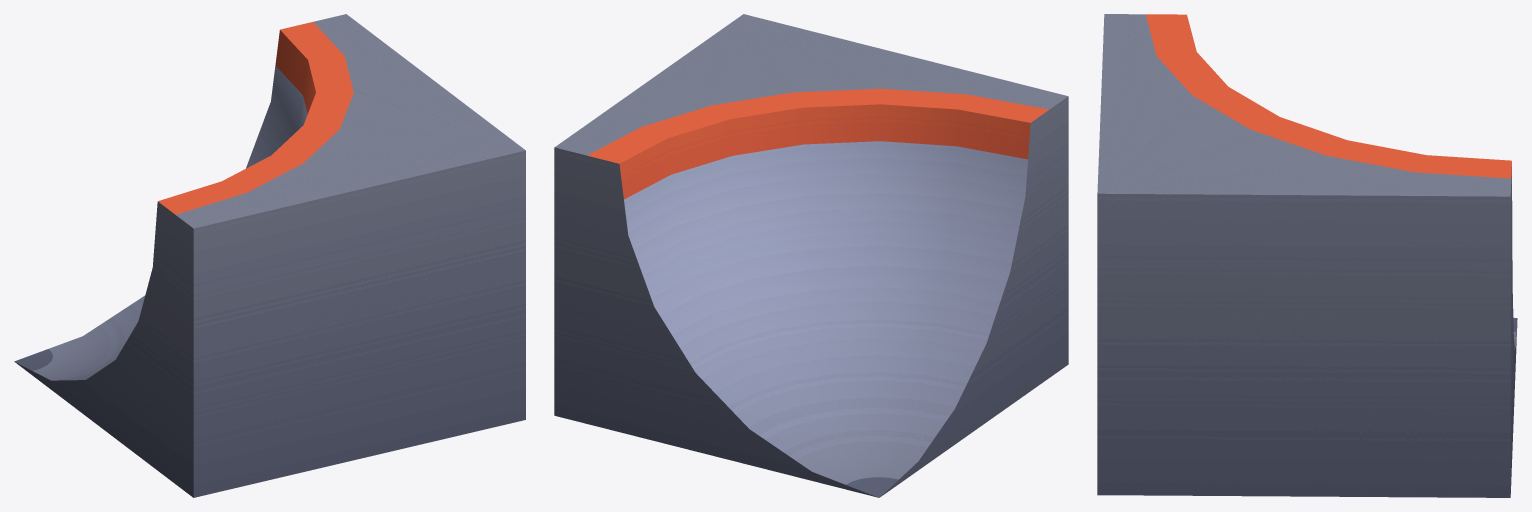
File: bowl-corner-inner.001_lev2.glb
3 views of the same model, side by side, from view 1: azimuth 30°, elevation 25°; view 2: azimuth 150°, elevation 25°; view 3: azimuth 270°, elevation 25° (orthographic). The views are drawn at different scales.
Visible parts, largest first — view 1: bowl-corner-inner.001_lev2; view 2: bowl-corner-inner.001_lev2; view 3: bowl-corner-inner.001_lev2.
Boxes of the visible parts, bbox=[...] form: bowl-corner-inner.001_lev2: bbox=[14, 14, 525, 497]; bowl-corner-inner.001_lev2: bbox=[554, 14, 1068, 497]; bowl-corner-inner.001_lev2: bbox=[1097, 14, 1517, 497].
Size of the model in its own units: 3.62 by 2.79 by 3.52.
1 material, 1 textured.
